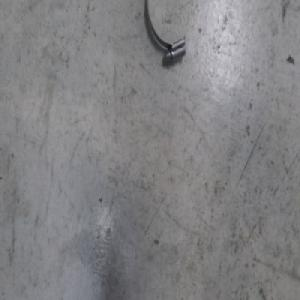AdjustableClamp: (145, 0, 187, 66)
